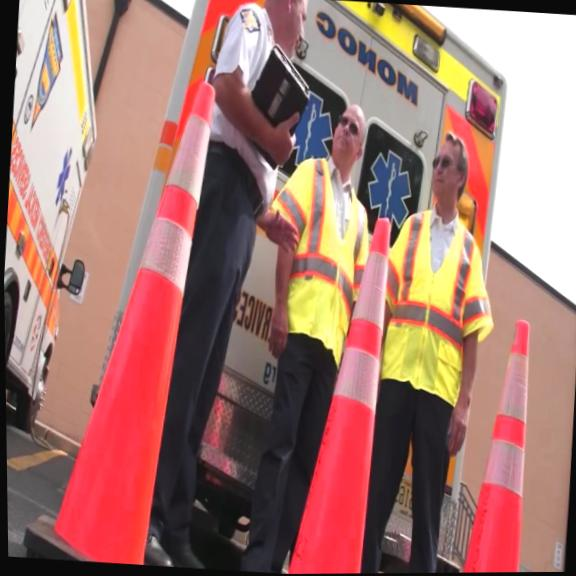safety_vest: (257, 150, 377, 371), (377, 206, 502, 408)
